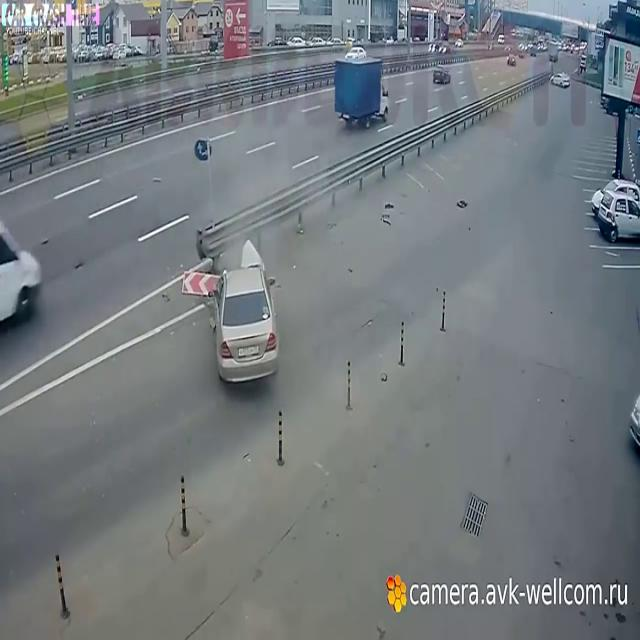Accident: (176, 200, 296, 409)
